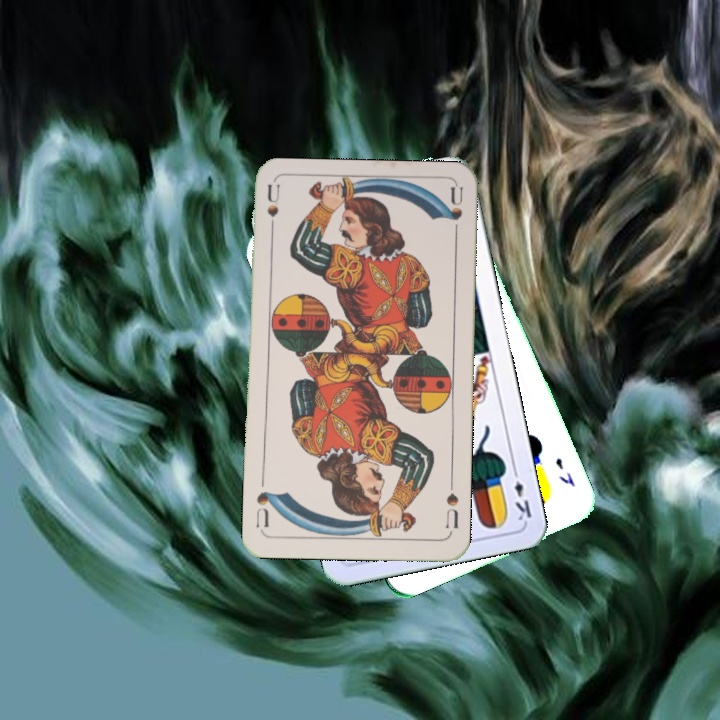EK: (508, 464, 535, 523), (551, 453, 578, 490)
SU: (263, 182, 282, 242), (442, 477, 462, 531)
